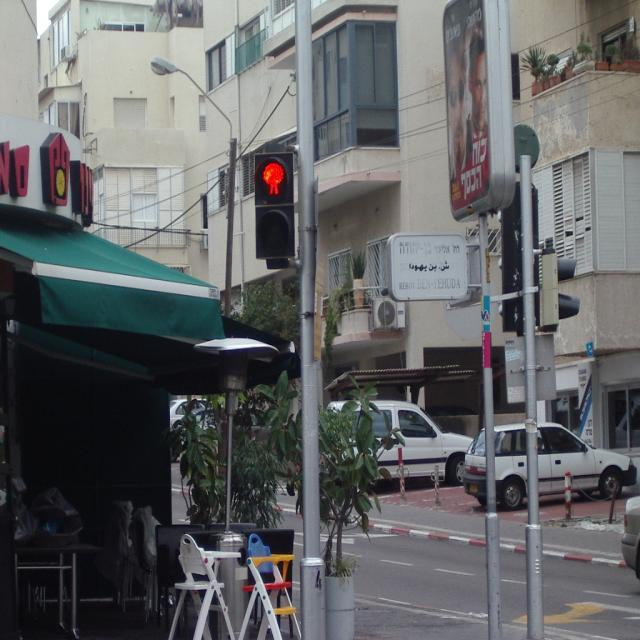traffic light: (254, 150, 297, 258)
